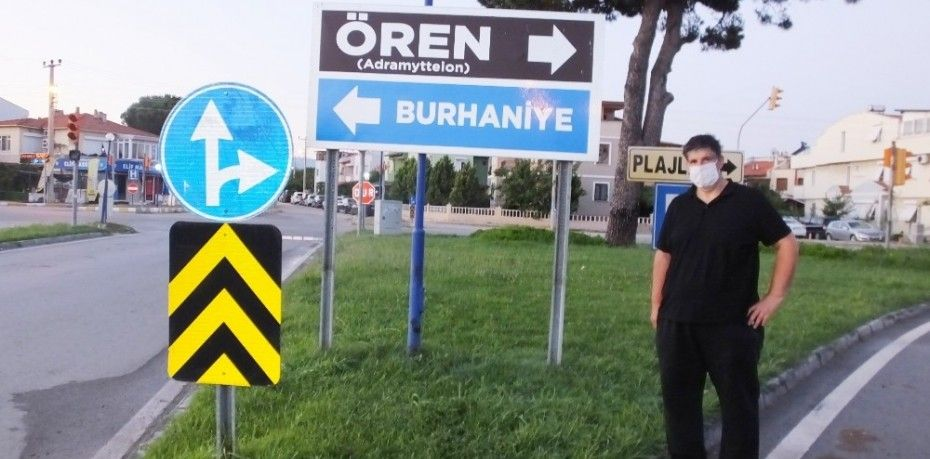ileri_veya_saga: (160, 81, 290, 220)
yaya: (293, 0, 658, 187), (643, 124, 815, 458)
